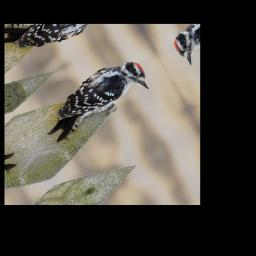Woodpecker: (31, 49, 155, 145)
